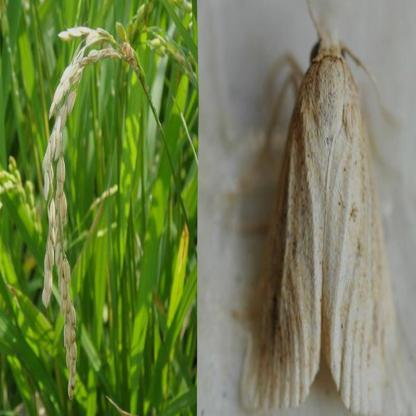stem-borer: (240, 14, 406, 416)
